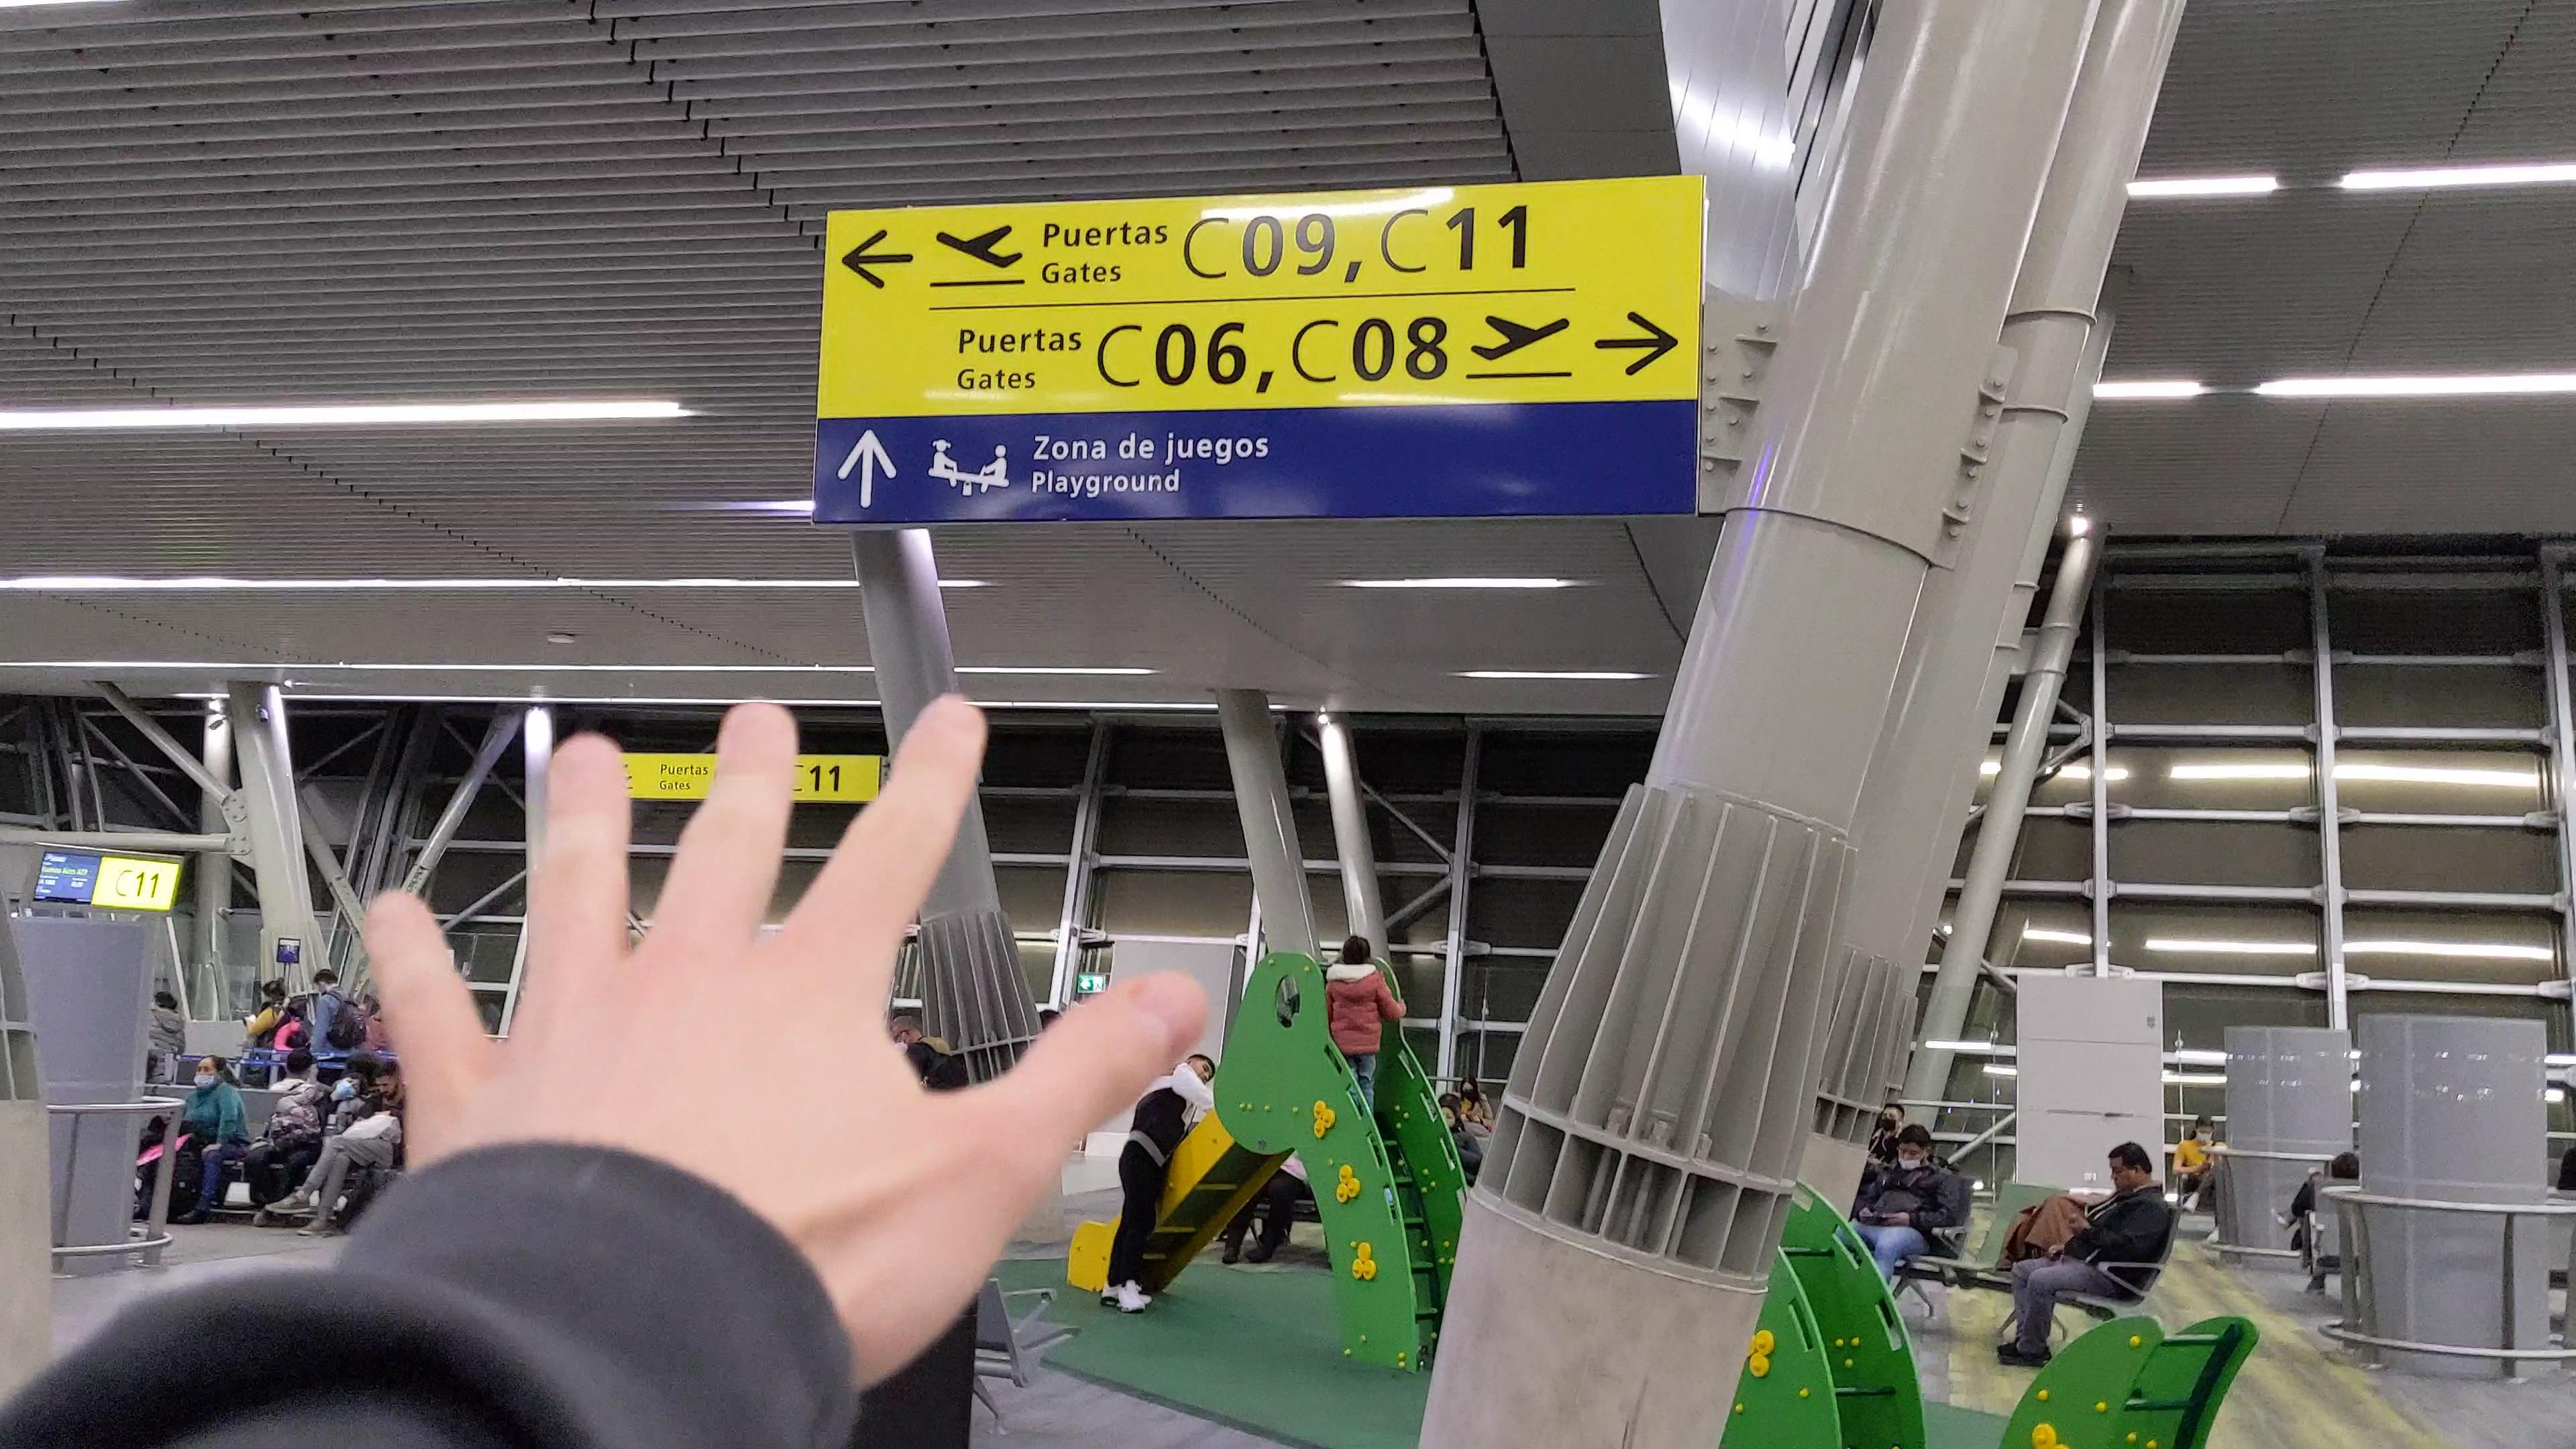airplane symbol: (1467, 313, 1575, 363), (931, 221, 1028, 274)
thin left arrow: (837, 225, 918, 290)
thin right arrow: (1592, 311, 1683, 379)
thin up arrow: (835, 428, 899, 510)
